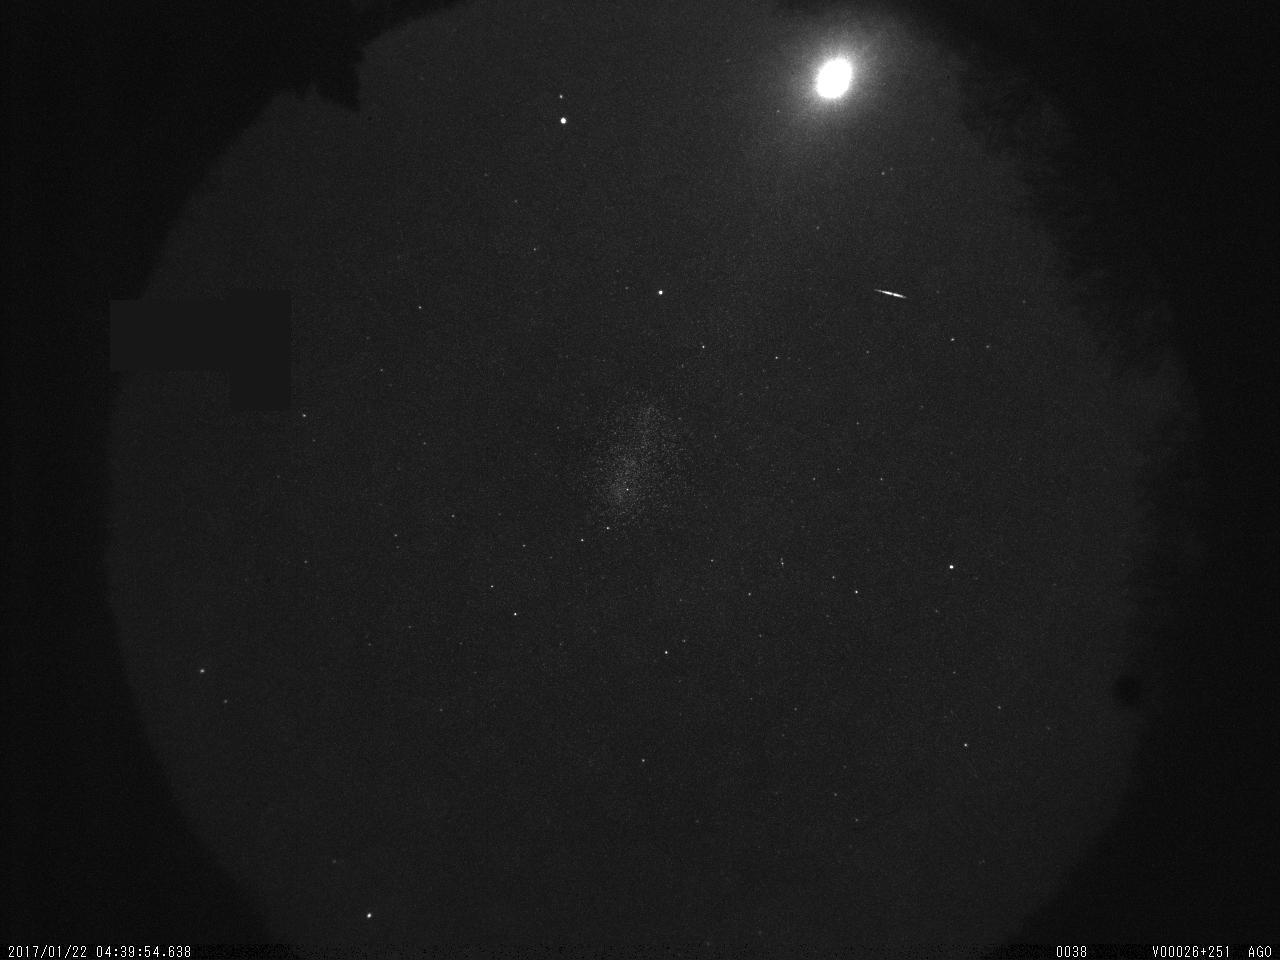meteor: (872, 282, 923, 304)
